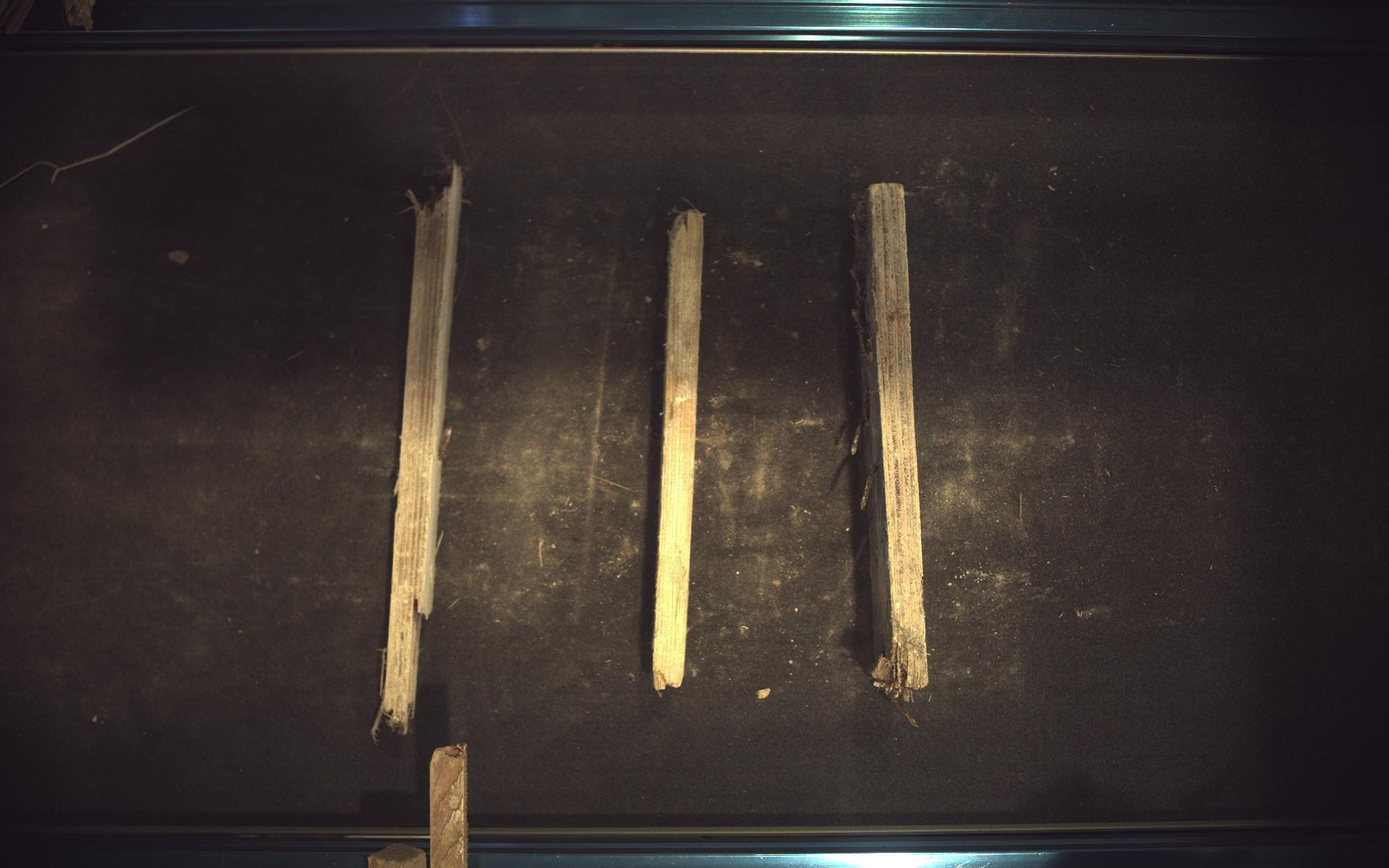wood: (371, 163, 462, 739), (857, 182, 931, 702), (653, 208, 705, 692), (430, 745, 468, 868), (368, 845, 427, 868)
